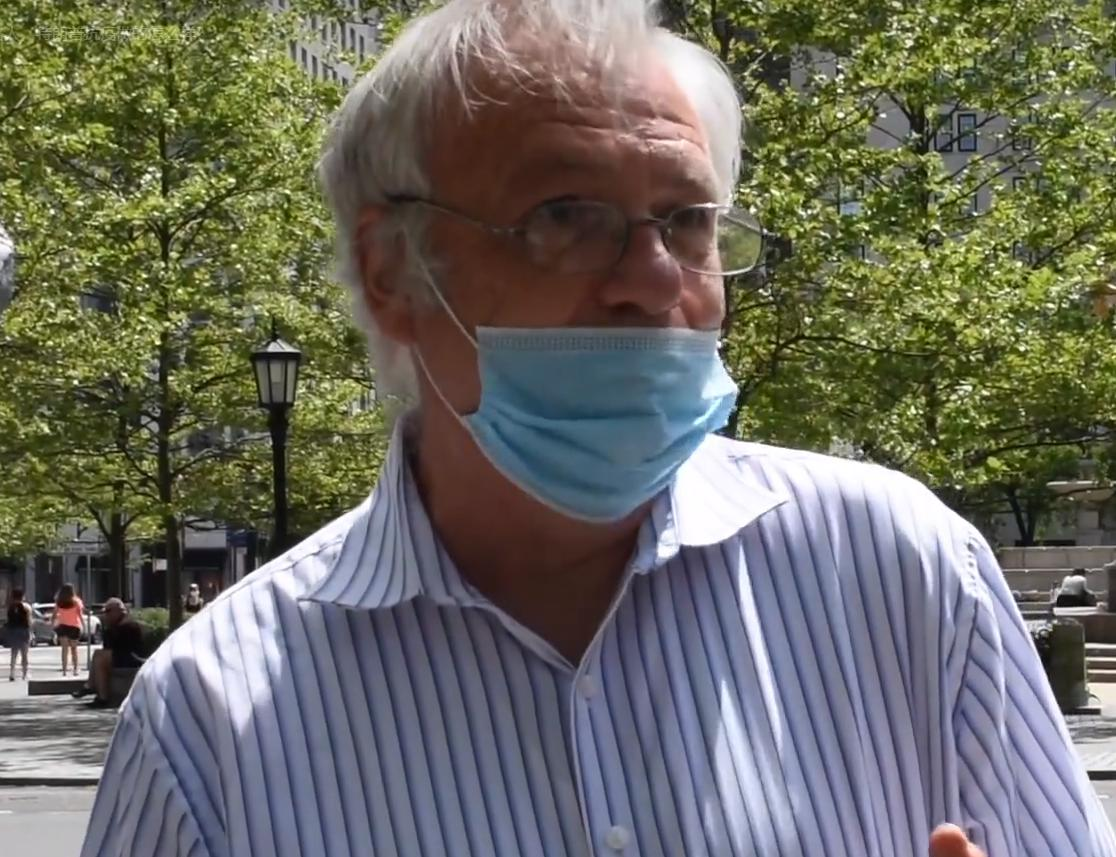WRONG: (437, 122, 734, 513)
